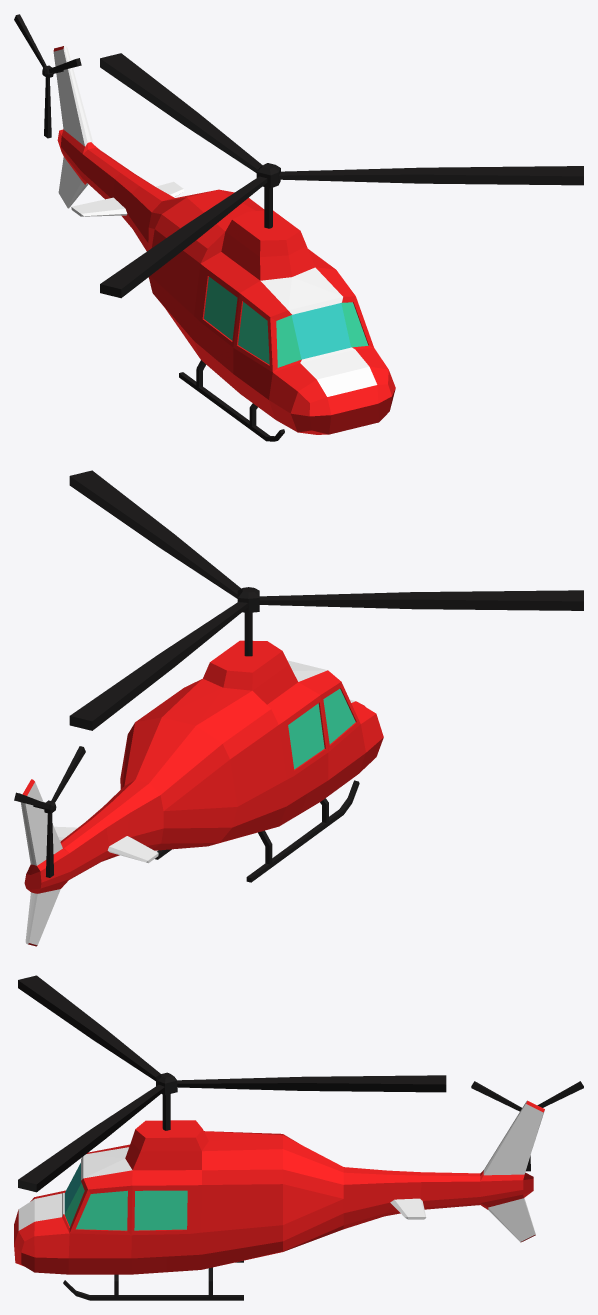
The model's file is Helicopter.fbx.
The picture shows the model from 3 angles, top to bottom: view 1: azimuth 30°, elevation 25°; view 2: azimuth 150°, elevation 25°; view 3: azimuth 270°, elevation 25°; orthographic projection. The views are drawn at different scales.
Visible parts, largest first — view 1: Govde, Buyuk_Pervane, Kucuk_Pervane; view 2: Govde, Buyuk_Pervane, Kucuk_Pervane; view 3: Govde, Buyuk_Pervane, Kucuk_Pervane.
Boxes of the visible parts, x1,y1,x2,y2 form: Govde: (53, 45, 395, 441); Buyuk_Pervane: (100, 53, 583, 298); Kucuk_Pervane: (14, 14, 81, 138); Govde: (20, 640, 383, 946); Buyuk_Pervane: (69, 470, 583, 730); Kucuk_Pervane: (14, 746, 85, 877); Govde: (14, 1100, 544, 1300); Buyuk_Pervane: (18, 975, 446, 1192); Kucuk_Pervane: (471, 1081, 583, 1171).
Size of the model in its own units: 313 by 361 by 144.
